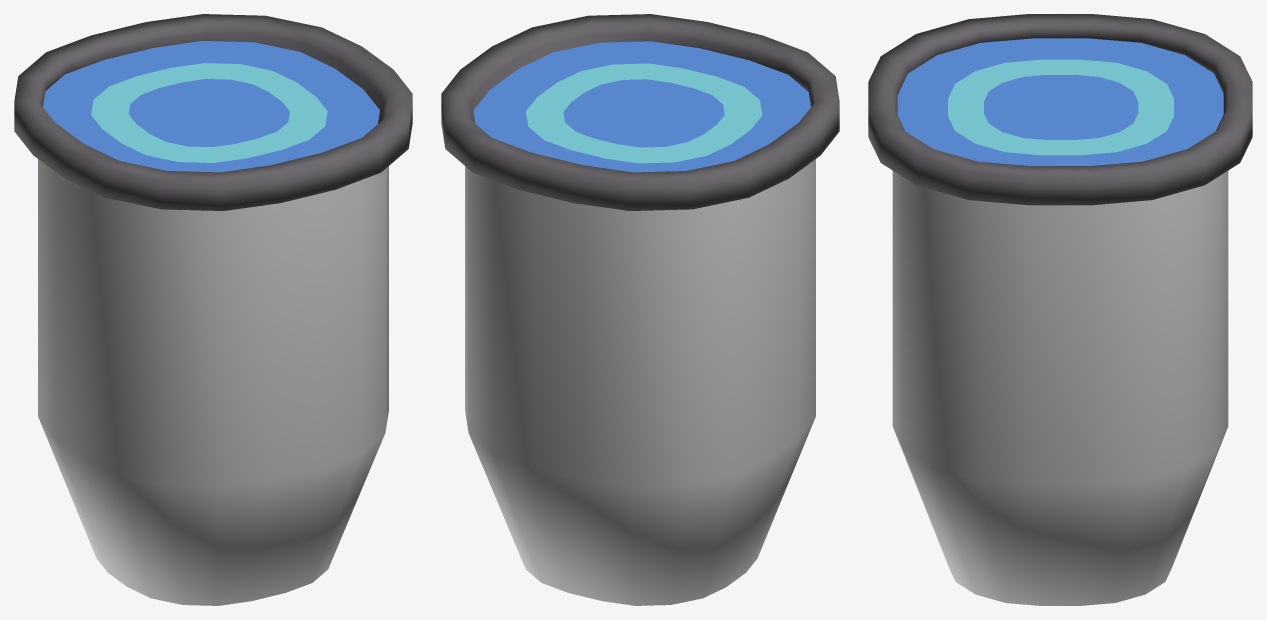
File: Tower_fattop_platform_1.fbx
3 views of the same model, side by side, from view 1: azimuth 30°, elevation 25°; view 2: azimuth 150°, elevation 25°; view 3: azimuth 270°, elevation 25° (orthographic).
Parts seen in each view (by area): view 1: Cube.064; view 2: Cube.064; view 3: Cube.064.
Part boxes in pixels (x1=…): Cube.064: x1=14, y1=14, x2=412, y2=605; Cube.064: x1=441, y1=14, x2=839, y2=605; Cube.064: x1=868, y1=14, x2=1252, y2=605.
Size of the model in its own units: 240 by 320 by 240.
